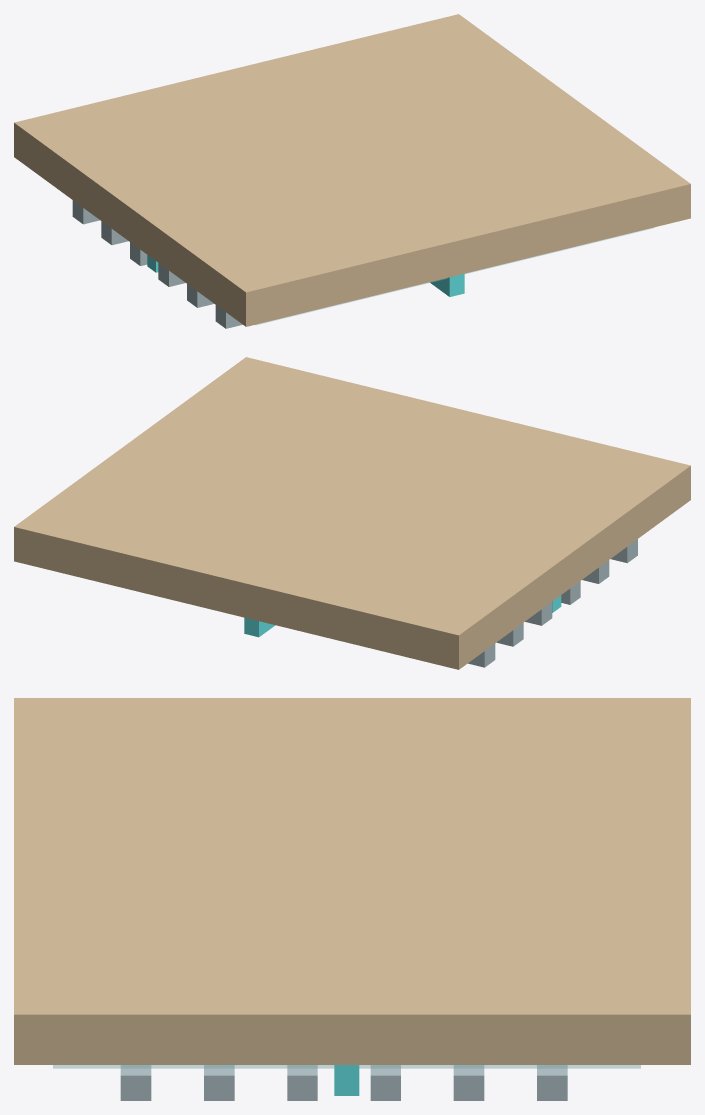
Rendered from storm-shutter-window.glb.
The picture shows the model from 3 angles, top to bottom: view 1: azimuth 30°, elevation 25°; view 2: azimuth 150°, elevation 25°; view 3: azimuth 270°, elevation 25°; orthographic projection. The views are drawn at different scales.
Visible parts, largest first — view 1: world; view 2: world; view 3: world.
Part boxes in pixels (x1=…): world: x1=14, y1=14, x2=690, y2=328; world: x1=14, y1=357, x2=690, y2=669; world: x1=14, y1=698, x2=690, y2=1100.
Bounding box in the file's own units: 1.35 × 0.195 × 1.22.
